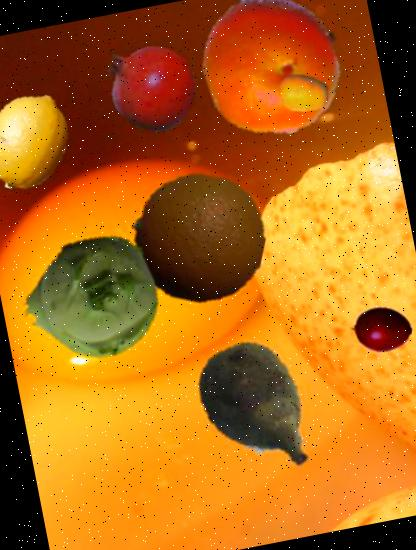Beetroot: (172, 324, 344, 496)
Kohlrabi: (10, 218, 174, 382)
Kumquats: (274, 63, 334, 123)
Lemon: (0, 82, 86, 200)
Orange: (118, 159, 276, 317)
Pomegranate: (92, 28, 208, 143)
Tamarillo: (344, 292, 416, 365)
Tangelo: (188, 0, 357, 148)
